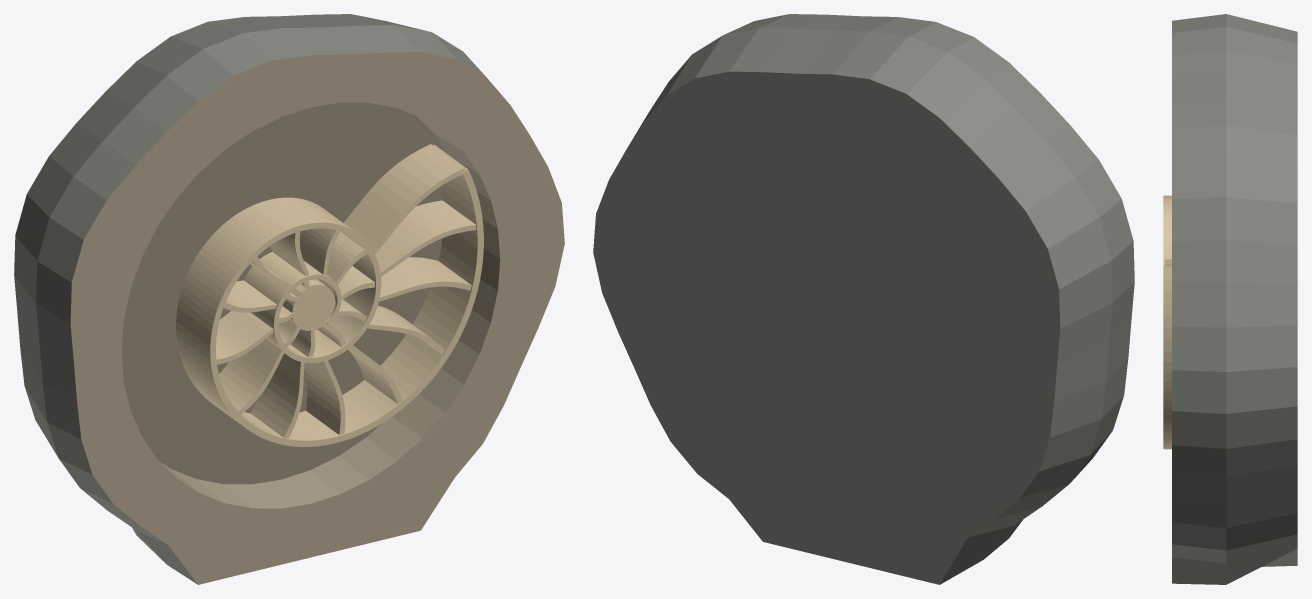
The picture shows the model from 3 angles, left to right: view 1: azimuth 30°, elevation 25°; view 2: azimuth 150°, elevation 25°; view 3: azimuth 270°, elevation 25°; orthographic projection. The views are drawn at different scales.
Visible parts, largest first — view 1: Matrix_ThickCutStone, Shell_ContinuousSpiral, Septum_22, Septum_21, Septum_16, Septum_15, Septum_20, Septum_17, Septum_14, Shell_CentralKnot, Septum_10, Septum_09 (+4 smaller); view 2: Matrix_ThickCutStone; view 3: Matrix_ThickCutStone, Shell_ContinuousSpiral.
Part boxes in pixels (<box>): Matrix_ThickCutStone: <box>14,14,564,584</box>; Shell_ContinuousSpiral: <box>176,144,483,446</box>; Septum_22: <box>344,144,464,253</box>; Septum_21: <box>375,200,476,276</box>; Septum_16: <box>250,353,304,438</box>; Septum_15: <box>219,339,284,414</box>; Septum_20: <box>379,257,471,301</box>; Septum_17: <box>304,360,345,434</box>; Septum_14: <box>216,311,273,364</box>; Shell_CentralKnot: <box>282,279,335,330</box>; Septum_10: <box>299,228,340,275</box>; Septum_09: <box>326,232,367,284</box>; Matrix_ThickCutStone: <box>593,14,1134,584</box>; Matrix_ThickCutStone: <box>1172,14,1297,584</box>; Shell_ContinuousSpiral: <box>1163,195,1171,449</box>.
Bounding box in the file's own units: 1.28 × 1.24 × 0.31.
